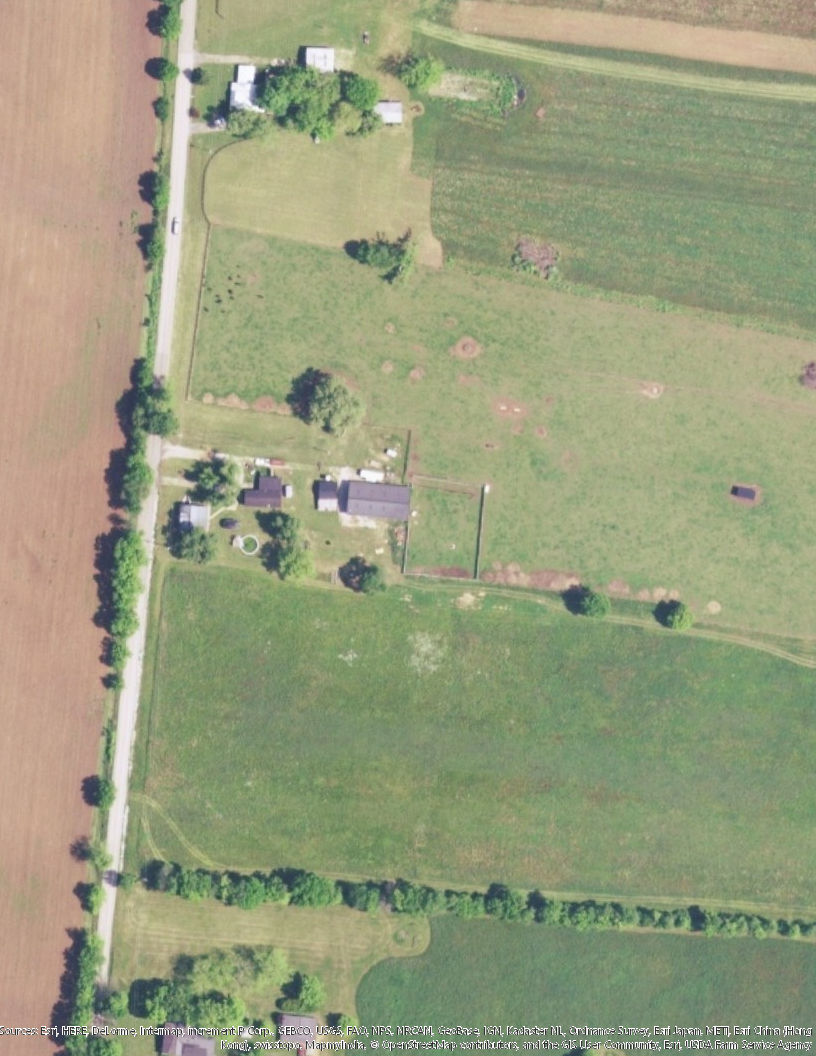cafo: (337, 475, 420, 522)
